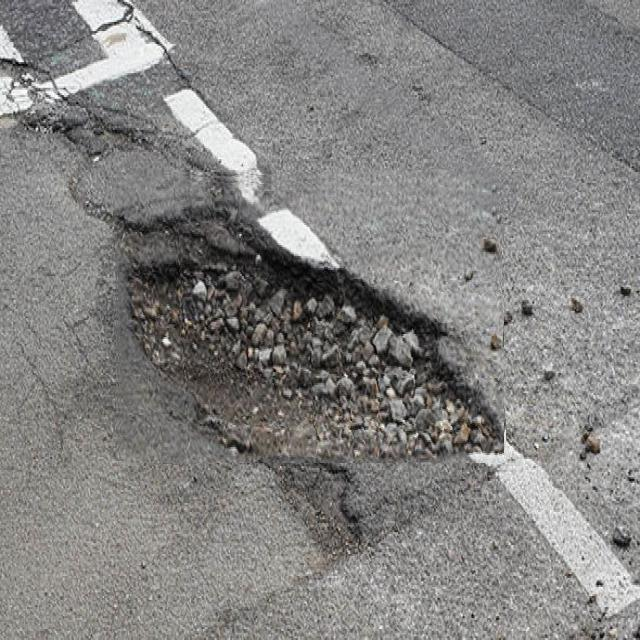Pothole: (115, 170, 504, 463)
